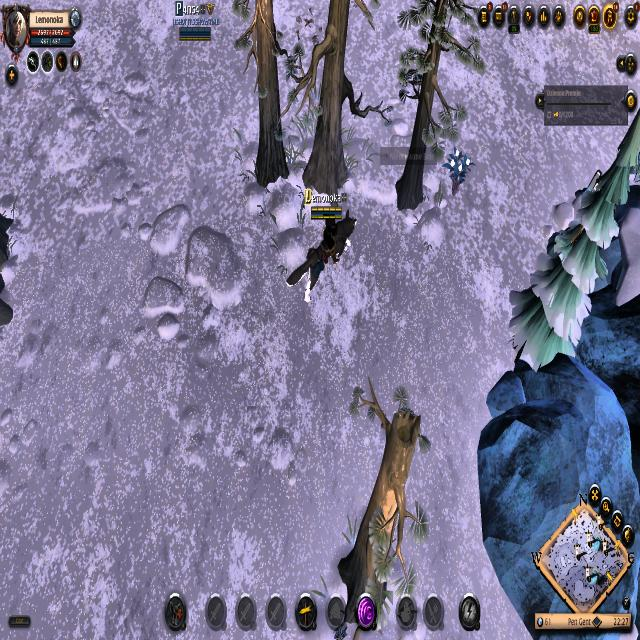fiber tier 4: (443, 144, 477, 198)
